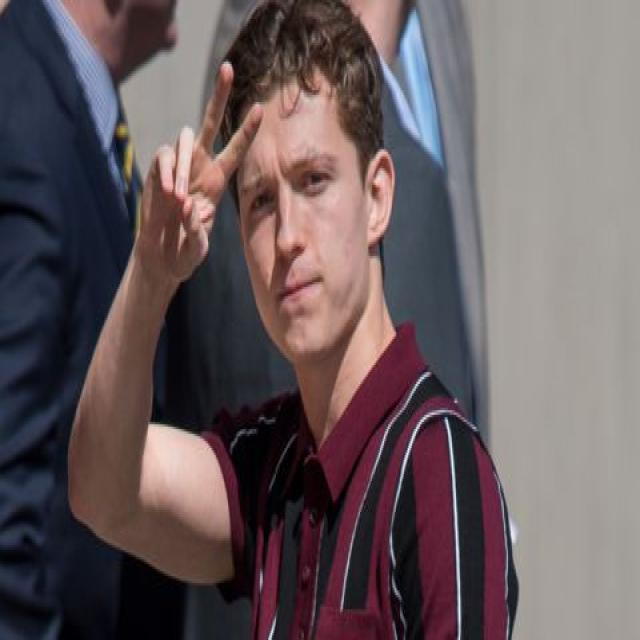mobile_phonerotation: (65, 0, 520, 638)
